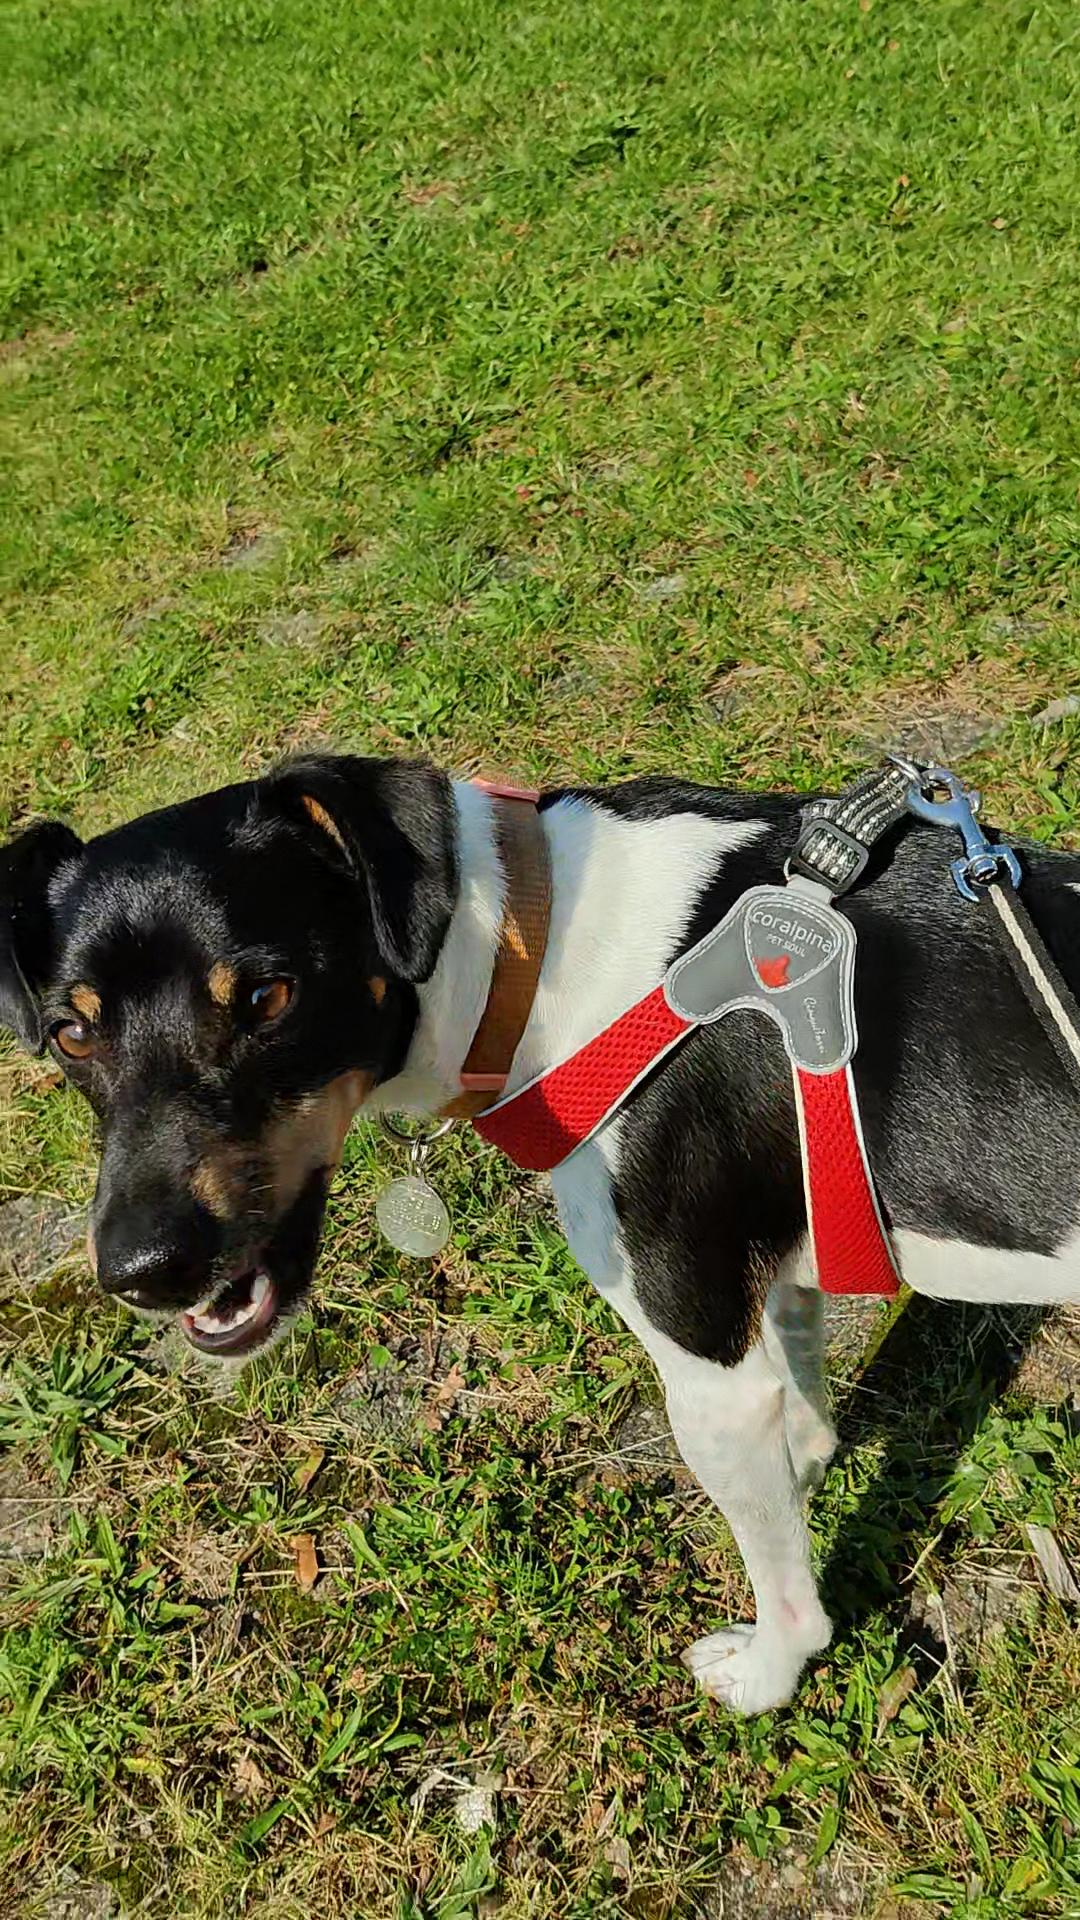Dog: (0, 694, 1079, 1760)
